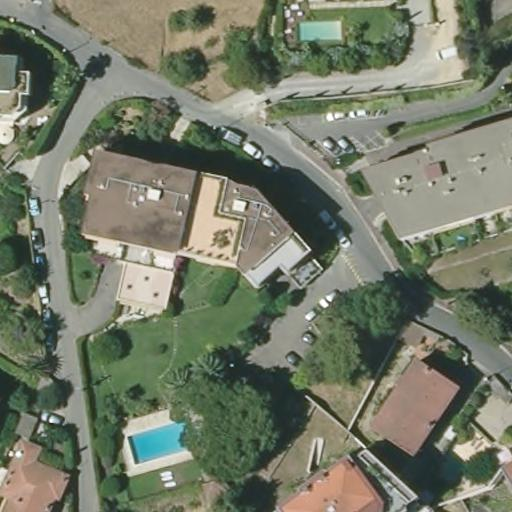pool: (125, 417, 204, 466)
